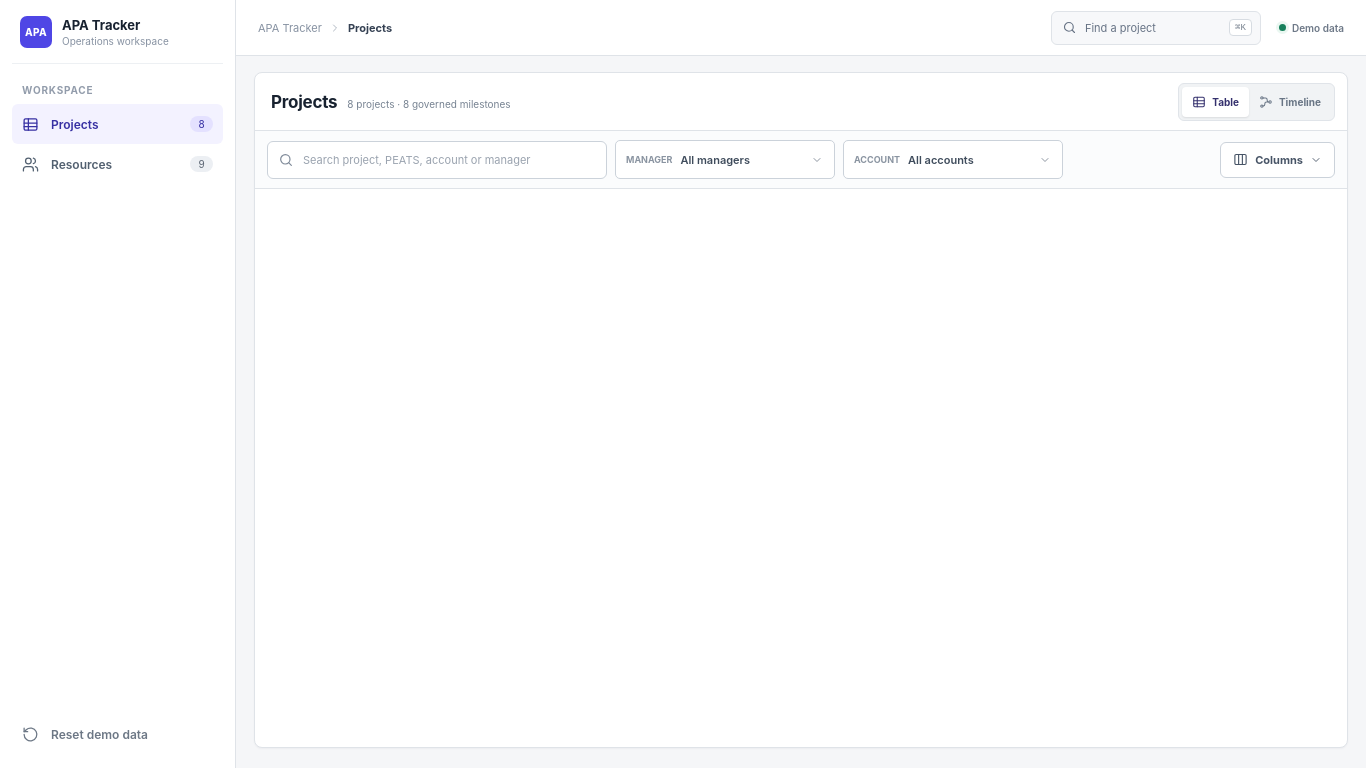
Test: APA Tracker project register › filters the register by a documented source identifier
The width and height of the screenshot is (1366, 768).
Type "PEATS-10391" into the field named "Search projects" at (450,160), box x1=303 y1=142 x2=596 y2=178
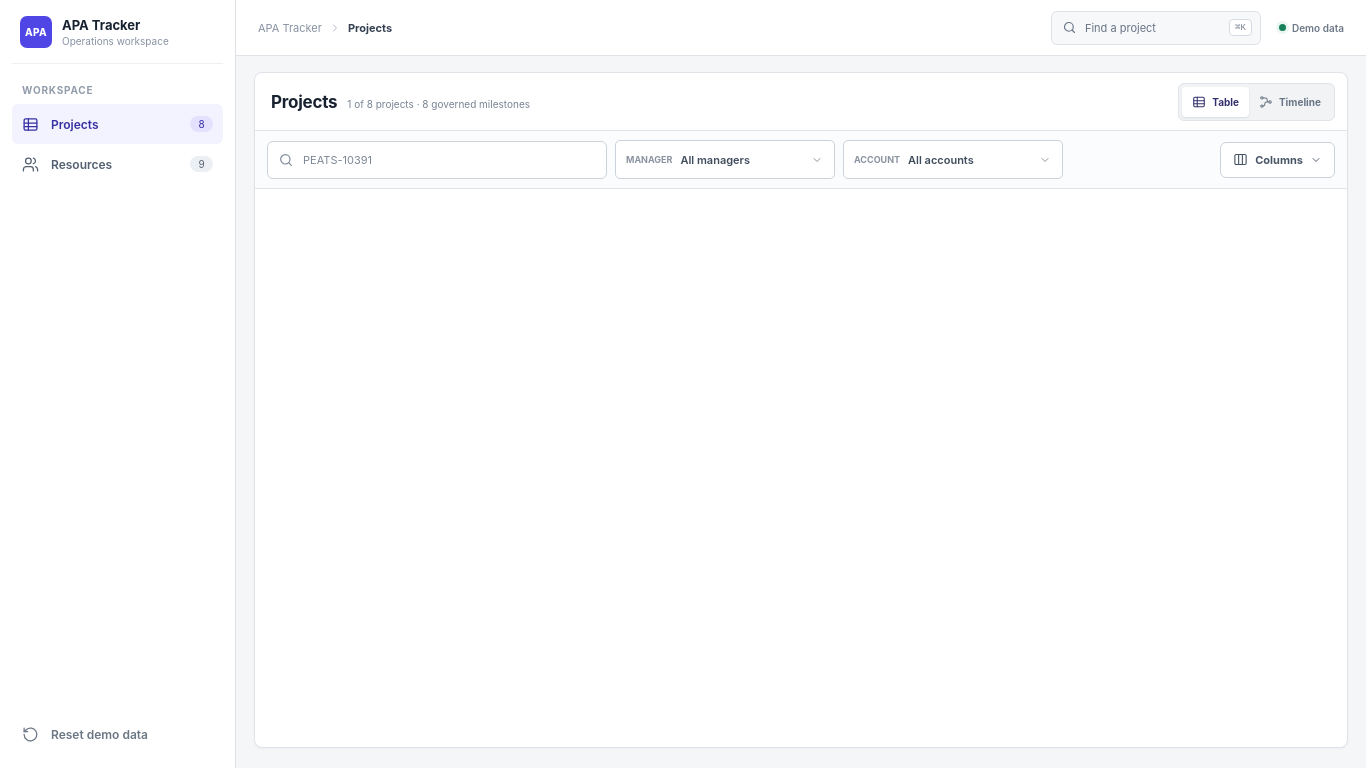
Check: the text "1 of 8 projects · 8 governed milestones" is shown, box x1=347 y1=98 x2=530 y2=110
